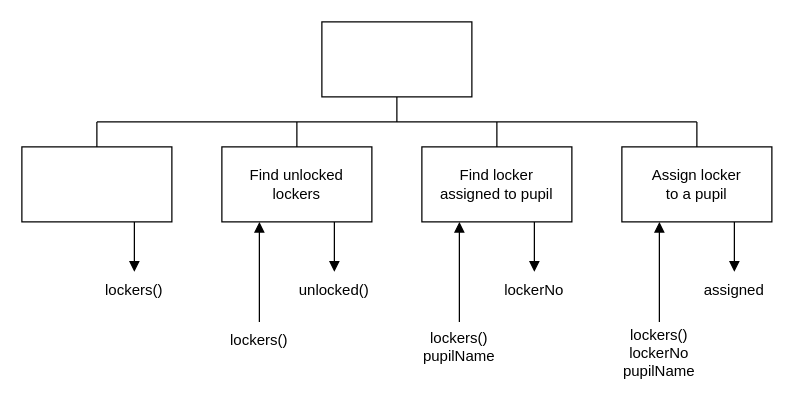
This 794x406 diagram has some shape labels left out. Here are the shapes that lost their labels. From the top down, the centre of each, then its label:
At pixel 396 59: "Locker System".
At pixel 96 184: "Read locker data".
